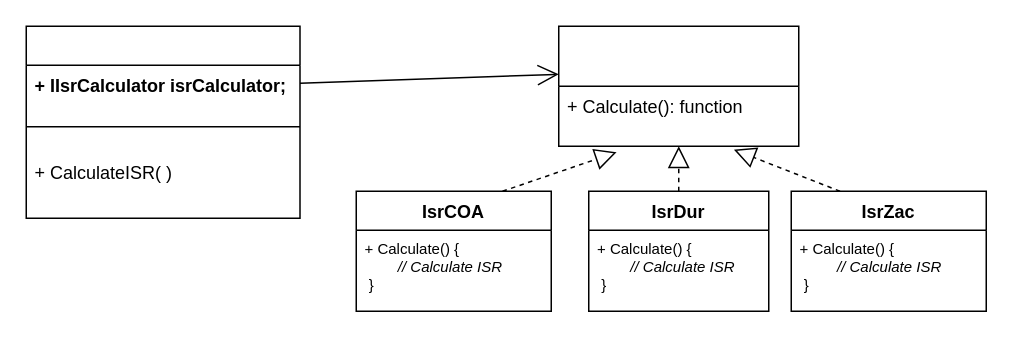
Some shapes in this 1013 by 342 pixel diagram are drawn without their labels. Each missing label, with the box of its shape:
<<Interface>> IIsrCalculator: (557, 25, 799, 146)
State: (25, 25, 300, 218)
